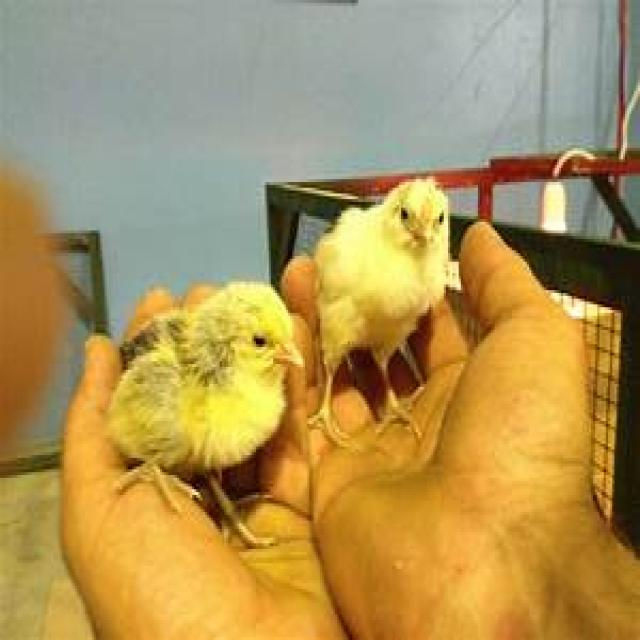animal: (105, 276, 302, 544), (313, 175, 454, 433)
